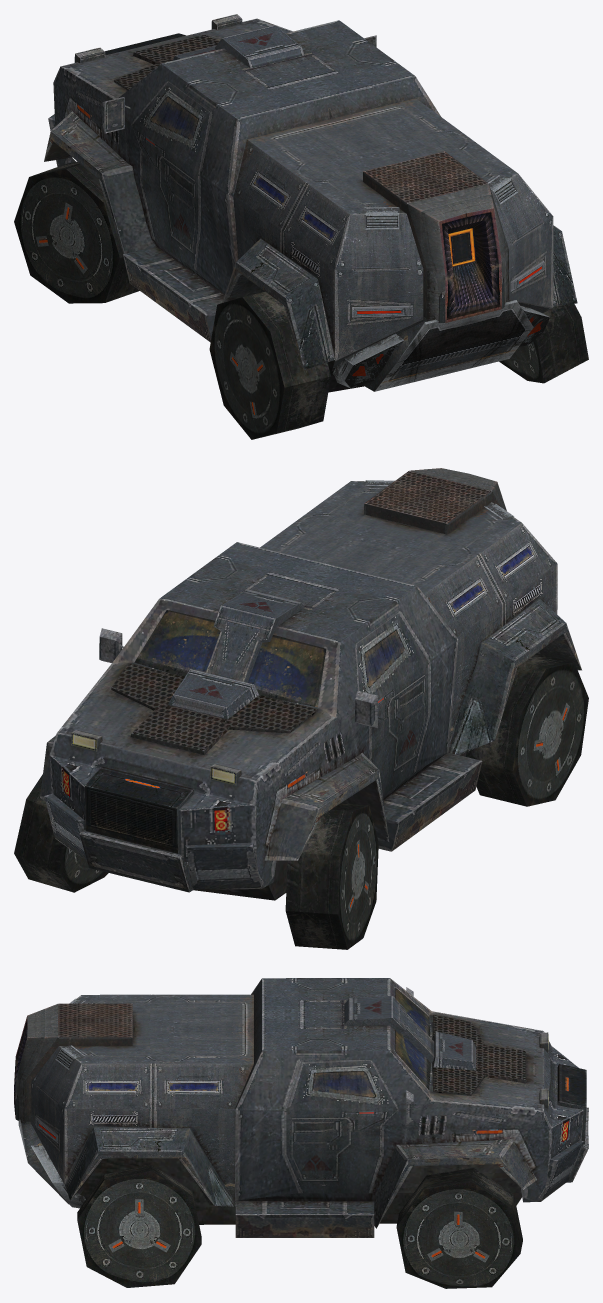
File: Vehicle_Car001.glb
The picture shows the model from 3 angles, top to bottom: view 1: azimuth 30°, elevation 25°; view 2: azimuth 150°, elevation 25°; view 3: azimuth 270°, elevation 25°; orthographic projection. The views are drawn at different scales.
Parts seen in each view (by area): view 1: tianwang_car001; view 2: tianwang_car001; view 3: tianwang_car001.
Part boxes in pixels (left/top/right/bottom): tianwang_car001: left=14, top=14, right=588, bottom=439; tianwang_car001: left=14, top=468, right=588, bottom=949; tianwang_car001: left=14, top=978, right=588, bottom=1288.
Size of the model in its own units: 4.06 by 3.12 by 7.37.
1 material, 1 textured.
